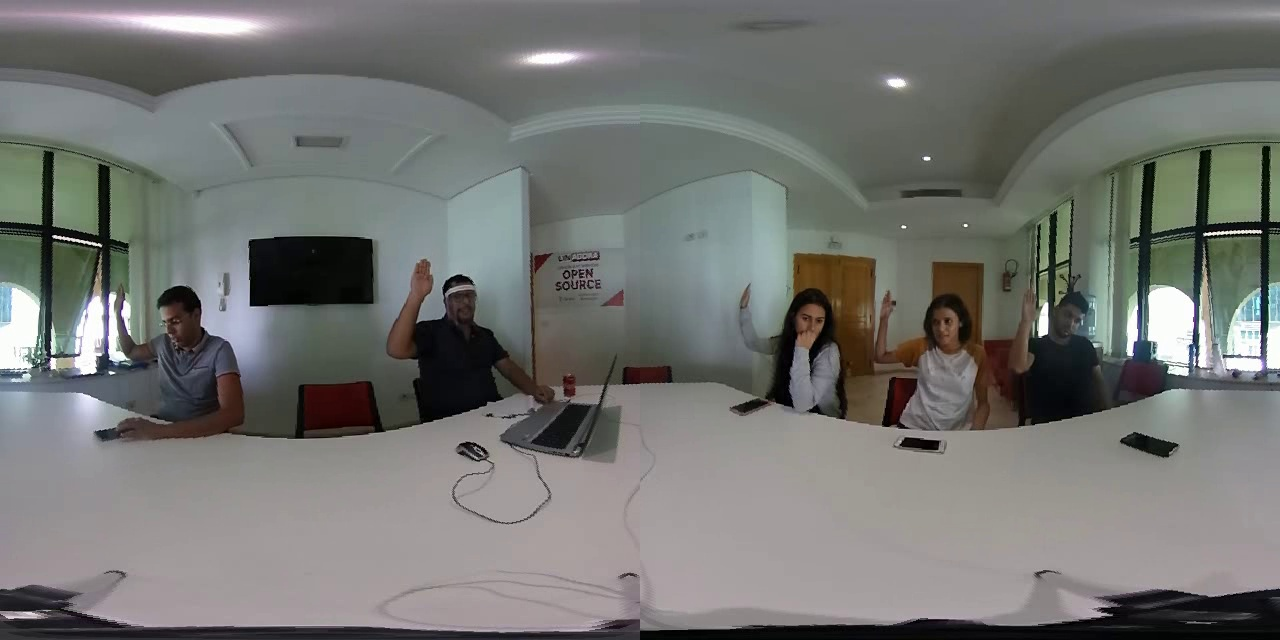person: (380, 262, 551, 417), (98, 269, 248, 431), (738, 280, 866, 424), (873, 290, 1002, 429), (1006, 290, 1121, 421)
voting: (382, 267, 438, 358), (106, 282, 153, 366), (871, 291, 912, 372), (1006, 291, 1045, 376), (742, 282, 772, 368)
